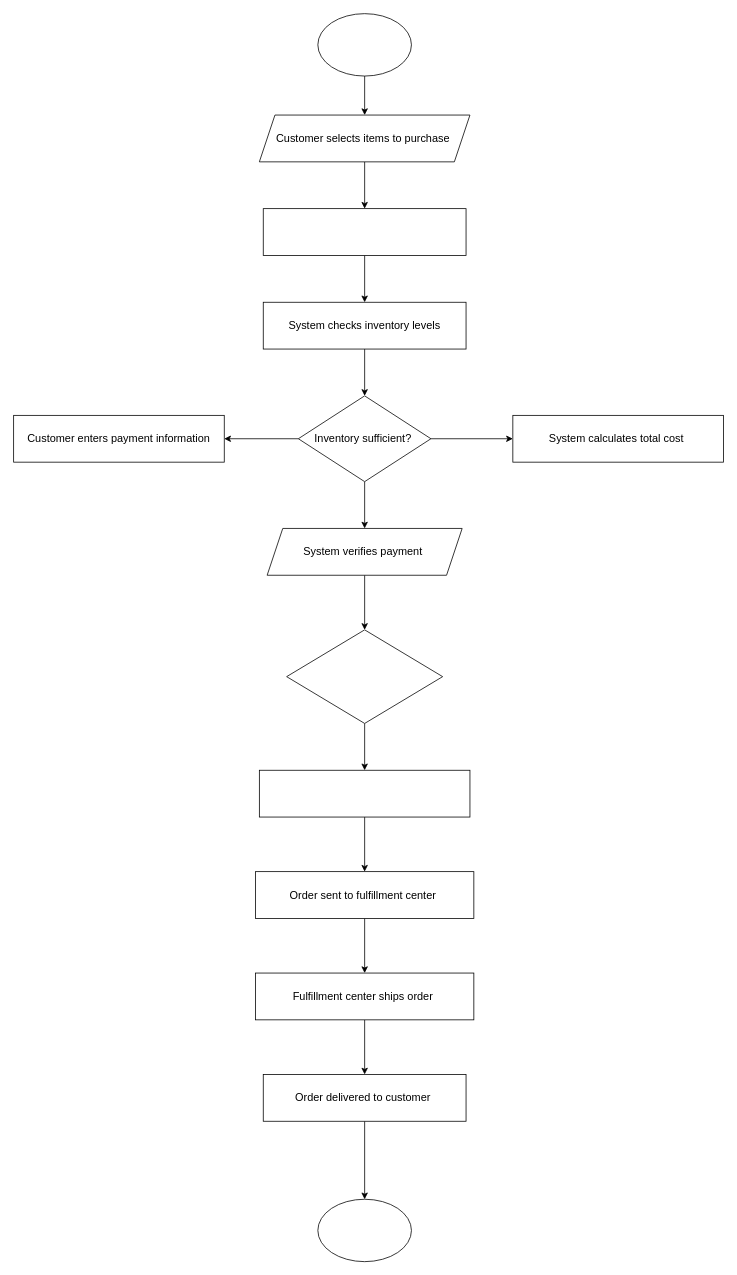
Image size: 737x1275. Some labels were removed from this diagram. Here are the shapes that lost their labels. From the top down, the box of each, then its label:
(317, 13, 411, 76): start
(262, 208, 466, 255): Customer proceeds to checkout
(286, 629, 443, 723): Payment accepted?
(259, 769, 470, 817): System generates order confirmation
(317, 1198, 411, 1262): End
